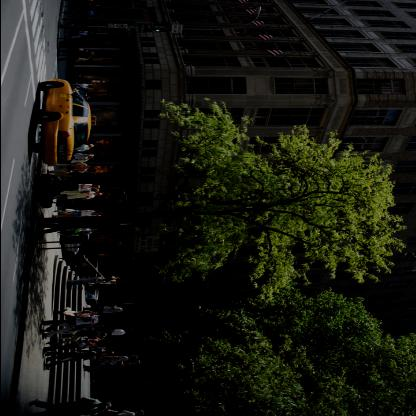Tree: (34, 100, 406, 282), (103, 282, 416, 415)
